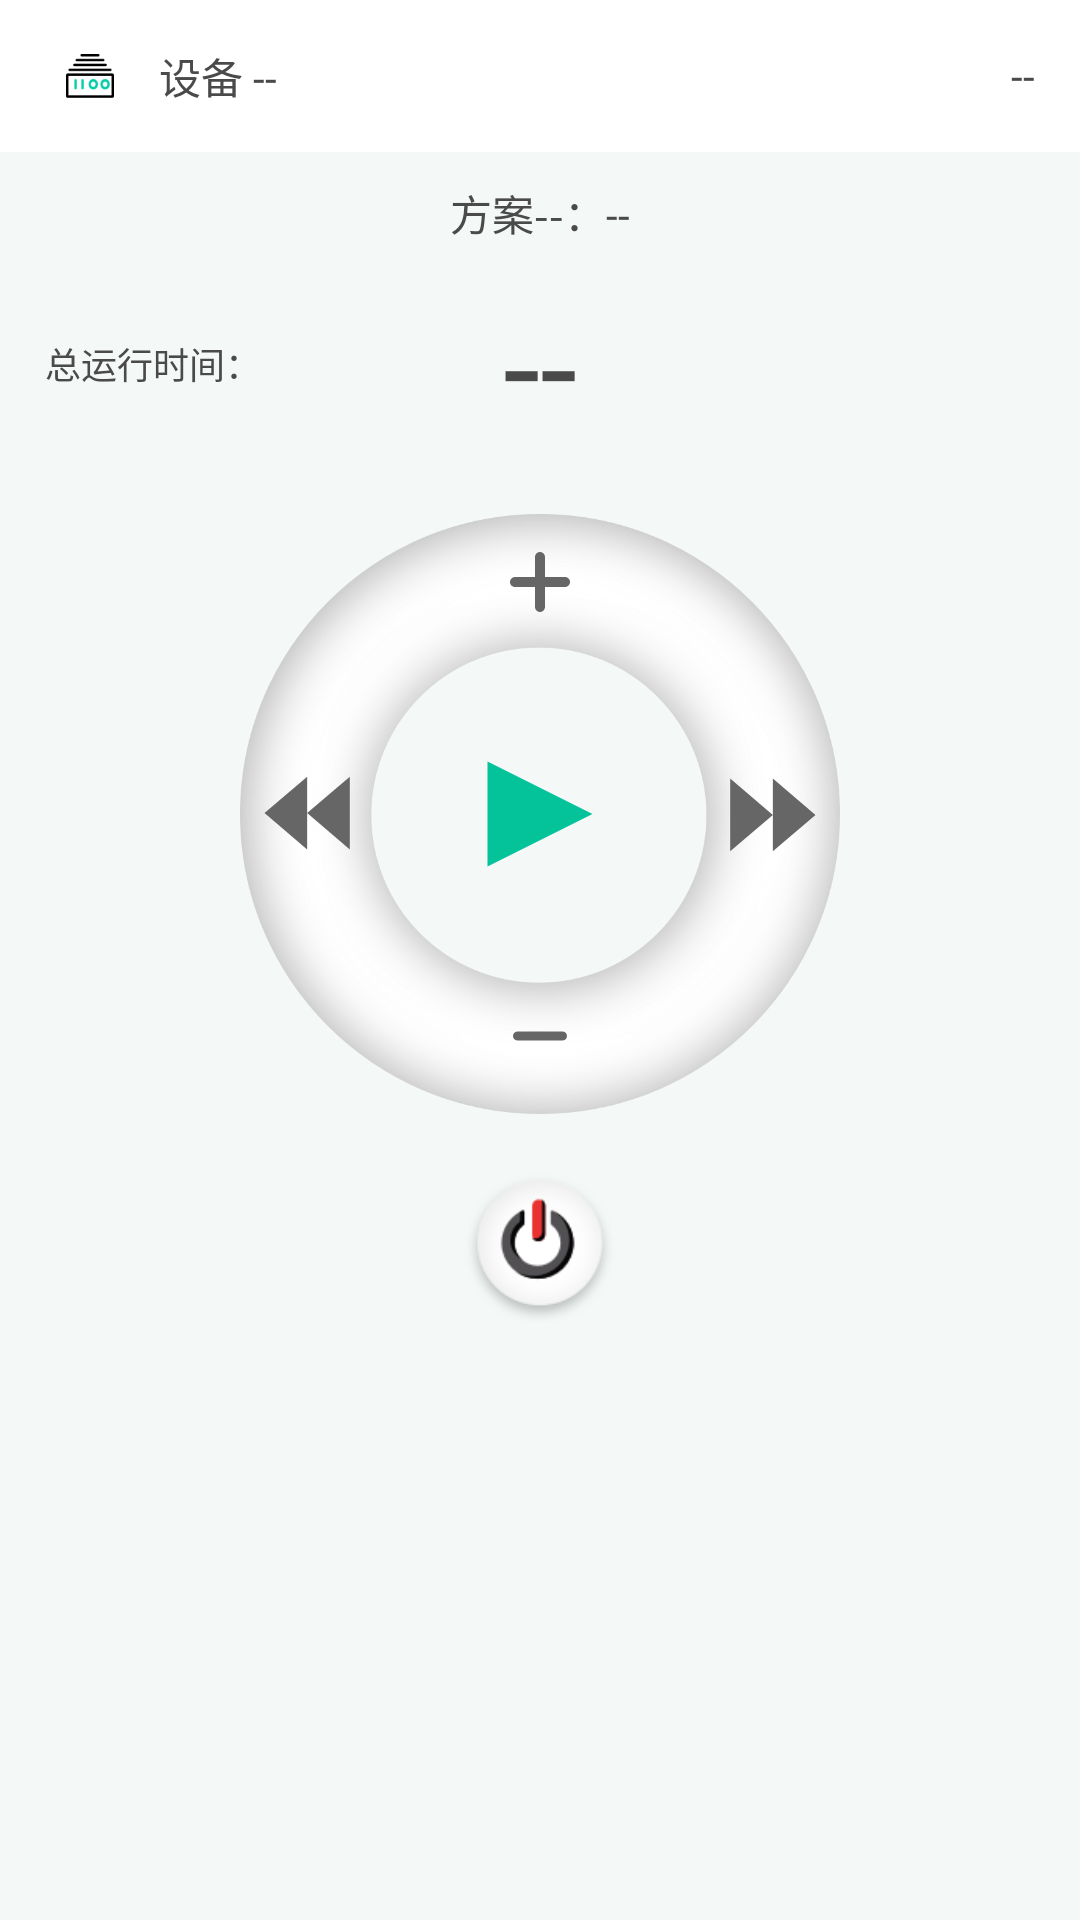

Named icons in this screenshot (1080w x 1920h) and their centers, (x=x, y=y):
add: (x=540, y=589)
close ble: (x=540, y=1256)
next: (x=765, y=814)
prev: (x=315, y=814)
reduce: (x=540, y=1039)
search divice: (x=90, y=76)
